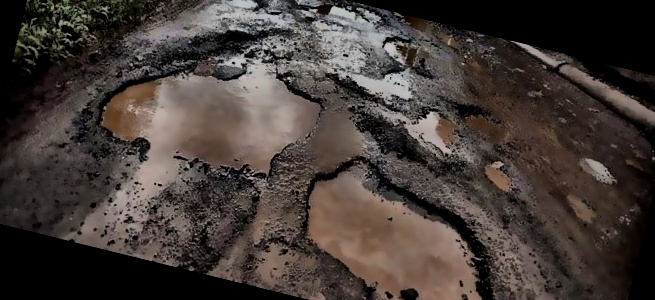pothole: (281, 143, 547, 300), (90, 27, 332, 193), (405, 103, 474, 160), (455, 102, 515, 145), (376, 30, 429, 74), (478, 157, 524, 196), (307, 0, 371, 26), (225, 0, 263, 14)
